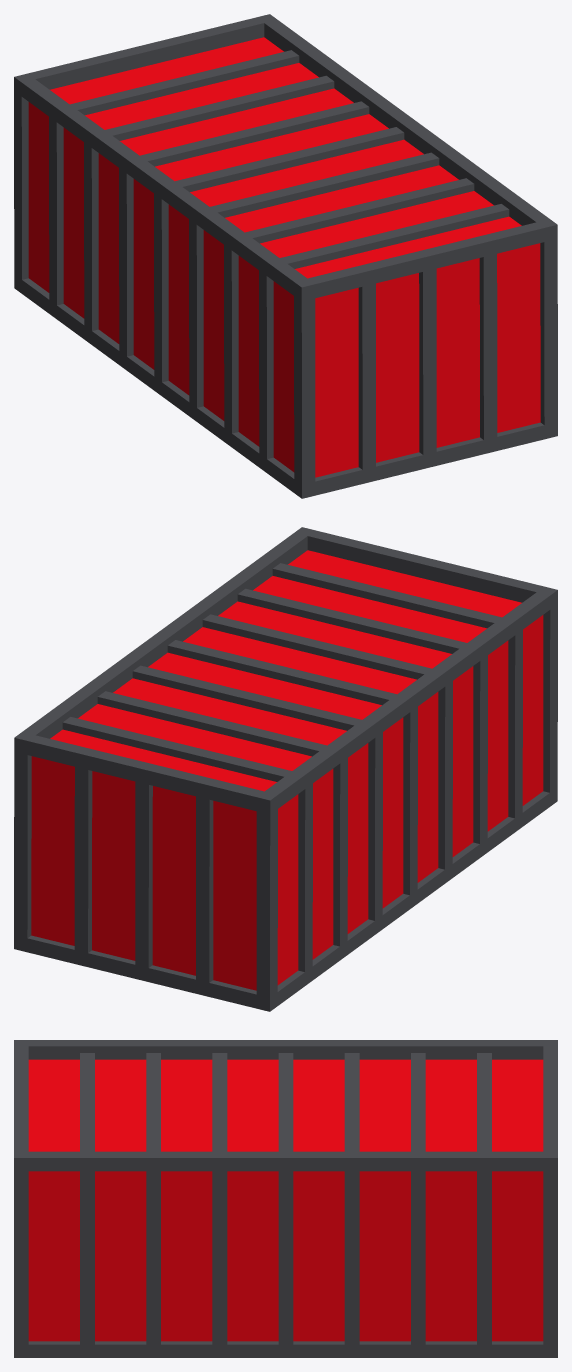
The model's file is ConteneurRouge.fbx.
3 views of the same model, one above another, from view 1: azimuth 30°, elevation 25°; view 2: azimuth 150°, elevation 25°; view 3: azimuth 270°, elevation 25° (orthographic). The views are drawn at different scales.
Parts seen in each view (by area): view 1: Low_poly_conteneur; view 2: Low_poly_conteneur; view 3: Low_poly_conteneur.
Boxes of the visible parts, box(x1,y1,x2,y2) form: Low_poly_conteneur: box(14, 14, 557, 498); Low_poly_conteneur: box(14, 527, 557, 1011); Low_poly_conteneur: box(14, 1040, 557, 1357).
Size of the model in its own units: 380 by 301 by 740.
